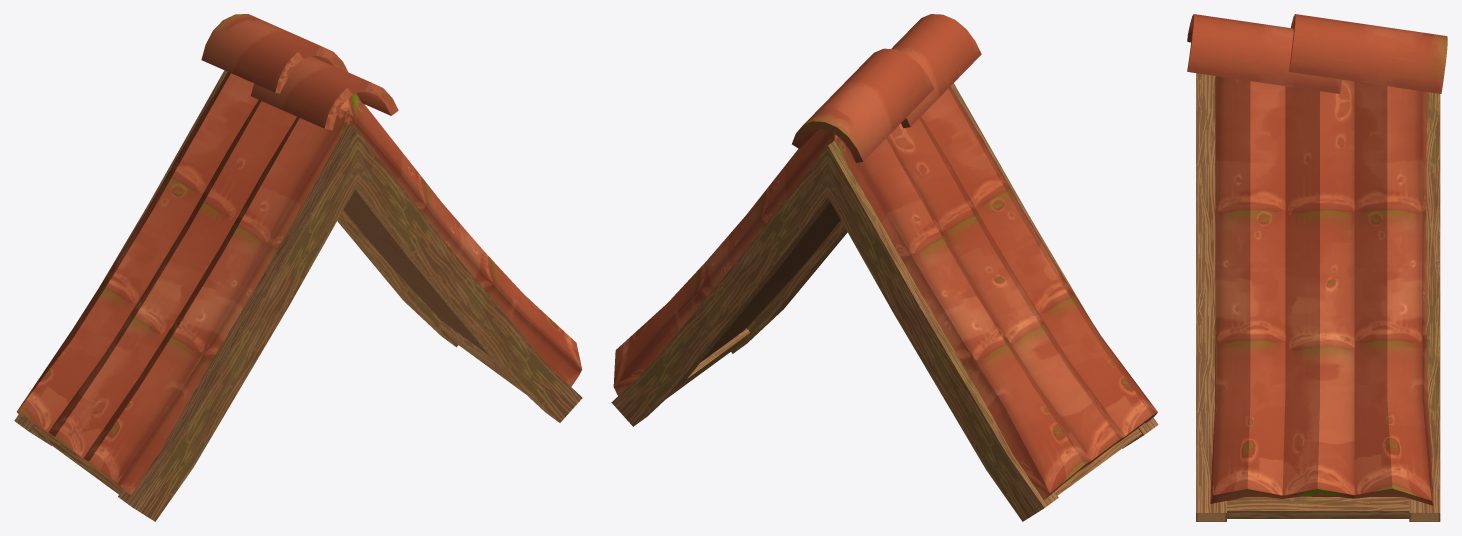
Rendered from Roof_RoundTile_2x1_Long.gltf.
The picture shows the model from 3 angles, left to right: view 1: azimuth 30°, elevation 25°; view 2: azimuth 150°, elevation 25°; view 3: azimuth 270°, elevation 25°; orthographic projection. The views are drawn at different scales.
Visible parts, largest first — view 1: Roof_RoundTile_2x1_Long; view 2: Roof_RoundTile_2x1_Long; view 3: Roof_RoundTile_2x1_Long.
Boxes of the visible parts, x1=… form: Roof_RoundTile_2x1_Long: x1=14, y1=14, x2=582, y2=521; Roof_RoundTile_2x1_Long: x1=611, y1=14, x2=1158, y2=521; Roof_RoundTile_2x1_Long: x1=1187, y1=14, x2=1447, y2=521.
Bounding box in the file's own units: 4.35 × 3.33 × 1.95.
Materials: 2 (2 with a texture image).
